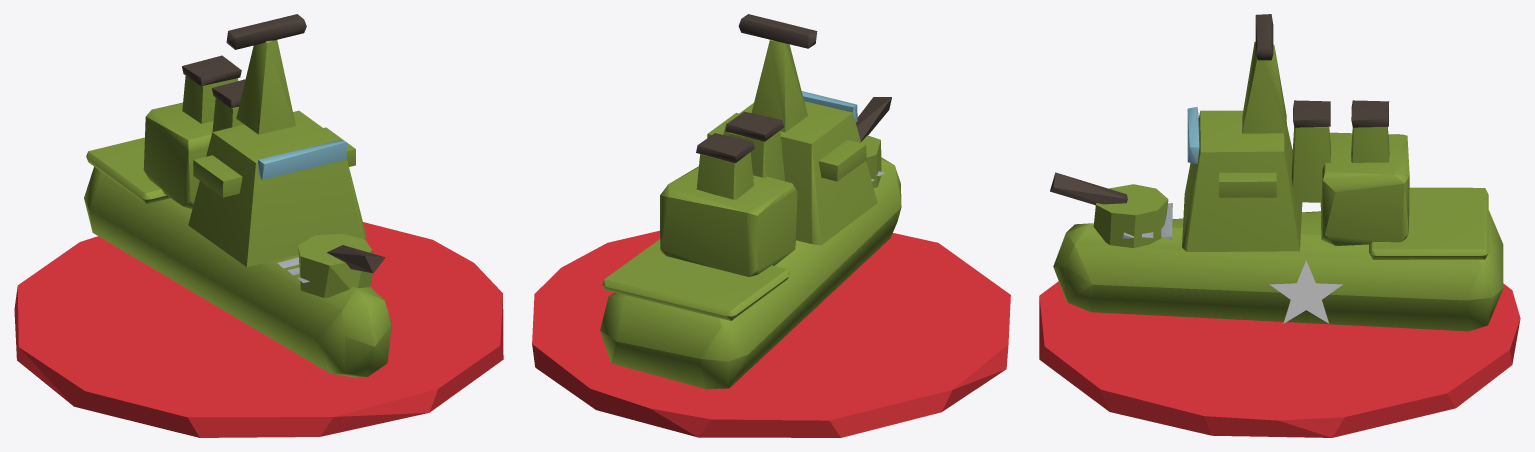
The model's file is usa_navy_lod1.glb.
3 renders of one model, left to right at view 1: azimuth 30°, elevation 25°; view 2: azimuth 150°, elevation 25°; view 3: azimuth 270°, elevation 25°, orthographic. The views are drawn at different scales.
Parts seen in each view (by area): view 1: base_pedestal, body_hull; view 2: body_hull, base_pedestal; view 3: body_hull, base_pedestal.
Part boxes in pixels (bbox=[...]): base_pedestal: bbox=[14, 222, 503, 437]; body_hull: bbox=[84, 14, 391, 377]; body_hull: bbox=[600, 14, 901, 389]; base_pedestal: bbox=[532, 230, 1010, 437]; body_hull: bbox=[1050, 14, 1503, 331]; base_pedestal: bbox=[1039, 281, 1520, 437].
Bounding box in the file's own units: 0.7751 × 0.5453 × 0.7751.
